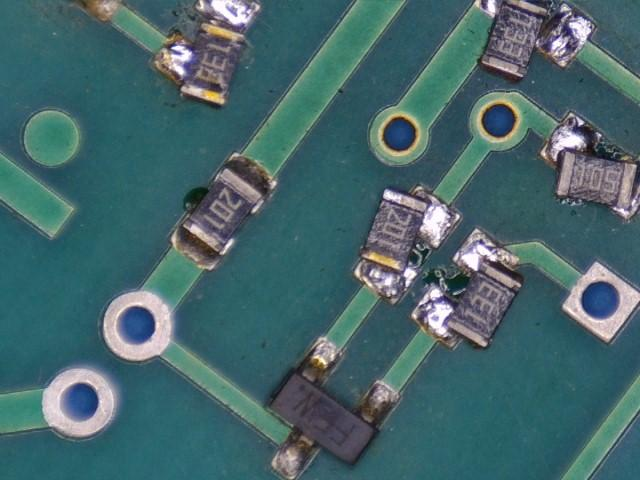Incorrect_installation: (410, 228, 524, 352), (352, 185, 464, 308), (150, 1, 265, 111), (539, 111, 640, 222), (473, 1, 600, 81)
